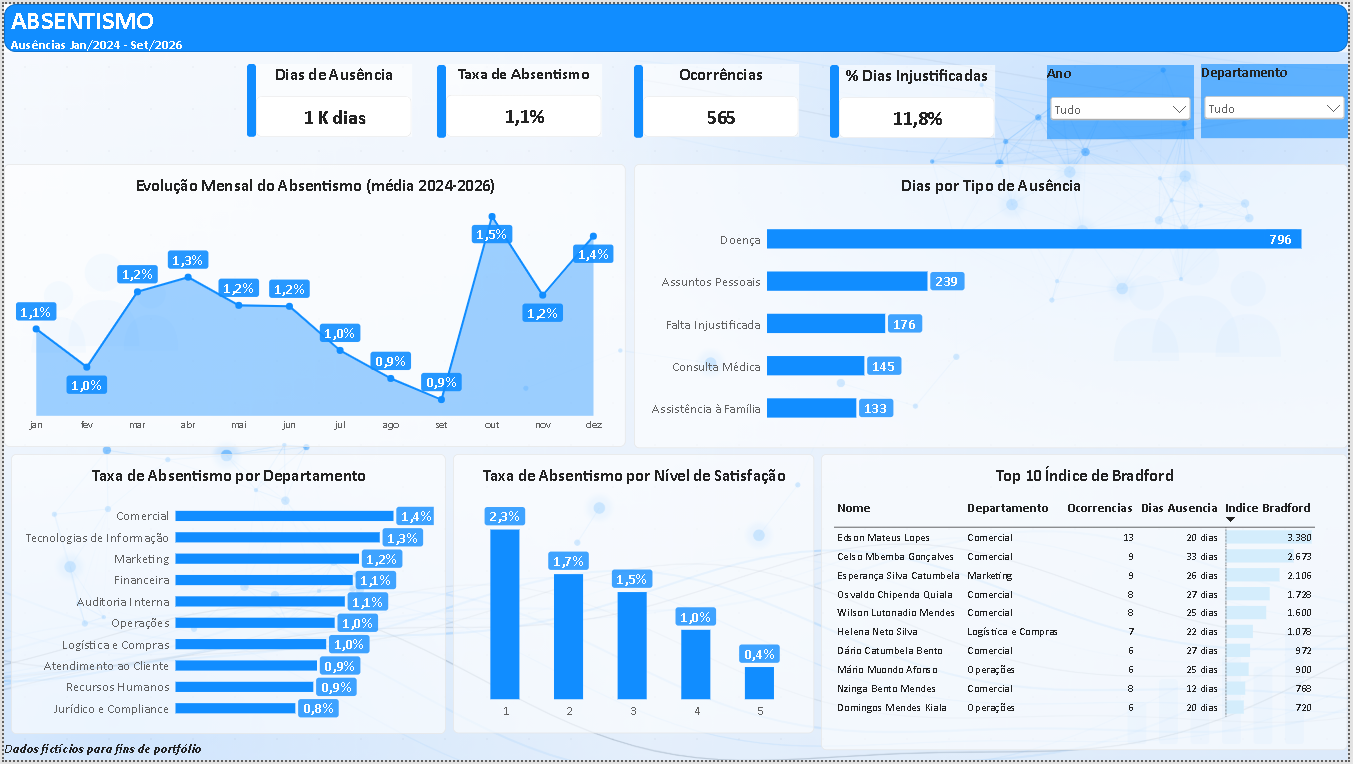

This screenshot's page, from the dashboard's own definition file:
{"tool":"powerbi","page":{"name":"Absentismo","canvas":[1920,1080],"ordinal":2},"visuals":[{"type":"image","box":[0,0,1919.6,1080],"z":0},{"type":"shape","box":[0,0,1920,68.6],"z":1000},{"type":"textbox","box":[9.4,0,1894,68.5],"z":2000},{"type":"cardVisual","title":"Dias de Ausência","fields":{"Data":["Medidas.Dias Ausencia"]},"box":[360,85.7,222.9,104.3],"z":3000},{"type":"cardVisual","title":"Taxa de Absentismo","fields":{"Data":["Medidas.Taxa Absentismo"]},"box":[631.4,85.7,222.9,104.3],"z":5000},{"type":"cardVisual","title":"Ocorrências","fields":{"Data":["Medidas.Ocorrencias"]},"box":[912.9,85.7,222.9,104.3],"z":7000},{"type":"cardVisual","title":"% Dias Injustificadas","fields":{"Data":["Medidas.% Dias Injustificados"]},"box":[1192.9,87.1,222.9,104.3],"z":9000},{"type":"slicer","title":"Departamento","fields":{"Values":["Departamentos.Departamento"]},"box":[1710,85.7,210,105.7],"z":11000},{"type":"clusteredColumnChart","title":"Taxa de Absentismo por Nível de Satisfação","fields":{"Category":["Colaboradores.Satisfacao_1a5"],"Y":["Medidas.Taxa Absentismo"]},"box":[641.4,642.9,515.8,399],"z":12000},{"type":"textbox","box":[0,1051.8,302.2,28.2],"z":13000},{"type":"lineChart","title":"Evolução Mensal do Absentismo (média 2024-2026)","fields":{"Y":["Medidas.Taxa Absentismo"],"Category":["Calendario.Mes"]},"box":[0,228.4,887.9,404.3],"z":14000},{"type":"clusteredBarChart","title":"Dias por Tipo de Ausência","fields":{"Category":["Absentismo.Tipo_Ausencia"],"Y":["Sum(Absentismo.Dias)"]},"box":[900,228.4,1019.6,405.7],"z":15000},{"type":"clusteredBarChart","title":"Taxa de Absentismo por Departamento","fields":{"Category":["Departamentos.Departamento"],"Y":["Medidas.Taxa Absentismo"]},"box":[10,642.9,621.4,400],"z":16000},{"type":"tableEx","title":"Top 10 Índice de Bradford","fields":{"Values":["Colaboradores.Nome","Departamentos.Departamento","Medidas.Ocorrencias","Medidas.Dias Ausencia","Medidas.Indice Bradford"]},"box":[1167.3,643.4,752.2,423.1],"z":16001},{"type":"slicer","title":"Ano","fields":{"Values":["Calendario.Ano"]},"box":[1489.7,87.3,210,105.7],"z":16002},{"type":"shape","box":[347.1,85.7,12.9,104.3],"z":16003},{"type":"shape","box":[618.6,87.1,12.9,104.3],"z":16004},{"type":"shape","box":[900,87.1,12.9,104.3],"z":16005},{"type":"shape","box":[1180,87.1,12.9,104.3],"z":16006}]}

Visuals, with their boxes in screenshot pixels (x1, y1, x2, y2), scaled from the page's 1920x1080 canvas onto the 1353x764 screenshot:
image: rect(0, 0, 1352, 763)
shape: rect(0, 0, 1352, 49)
textbox: rect(7, 0, 1341, 48)
"Dias de Ausência" cardVisual: rect(254, 61, 411, 134)
"Taxa de Absentismo" cardVisual: rect(445, 61, 602, 134)
"Ocorrências" cardVisual: rect(643, 61, 800, 134)
"% Dias Injustificadas" cardVisual: rect(841, 62, 998, 135)
"Departamento" slicer: rect(1205, 61, 1352, 135)
"Taxa de Absentismo por Nível de Satisfação" clusteredColumnChart: rect(452, 455, 815, 737)
textbox: rect(0, 744, 213, 763)
"Evolução Mensal do Absentismo (média 2024-2026)" lineChart: rect(0, 162, 626, 448)
"Dias por Tipo de Ausência" clusteredBarChart: rect(634, 162, 1352, 449)
"Taxa de Absentismo por Departamento" clusteredBarChart: rect(7, 455, 445, 738)
"Top 10 Índice de Bradford" tableEx: rect(823, 455, 1352, 754)
"Ano" slicer: rect(1050, 62, 1198, 137)
shape: rect(245, 61, 254, 134)
shape: rect(436, 62, 445, 135)
shape: rect(634, 62, 643, 135)
shape: rect(832, 62, 841, 135)
